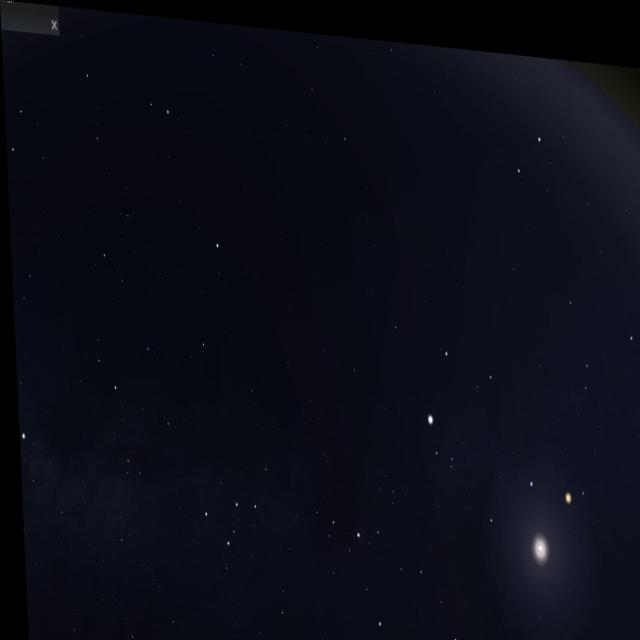cassiopeia: (185, 436, 278, 576)
moon: (506, 484, 563, 590)
